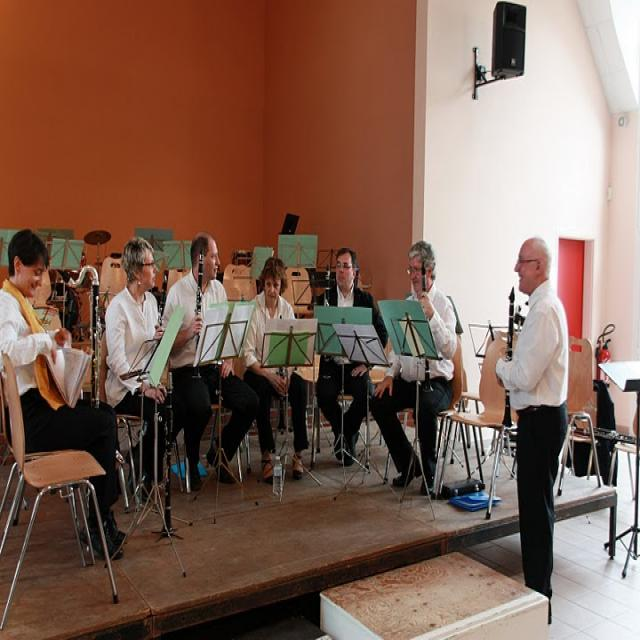clarinet: (162, 368, 176, 537), (420, 263, 436, 397), (501, 288, 516, 428), (152, 266, 172, 353), (192, 244, 207, 349), (276, 363, 288, 432), (325, 264, 331, 306)
saxophone: (54, 261, 104, 412)
